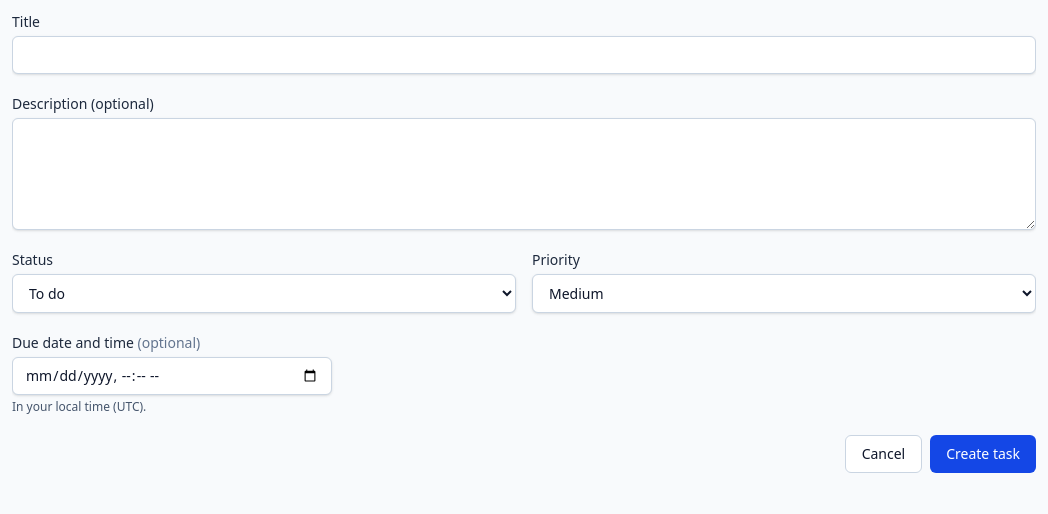
TaskForm: create › shows server field errors next to the inputs
Type "Report" into the field labelled "Title" at (524, 55), box [12, 36, 1036, 74]
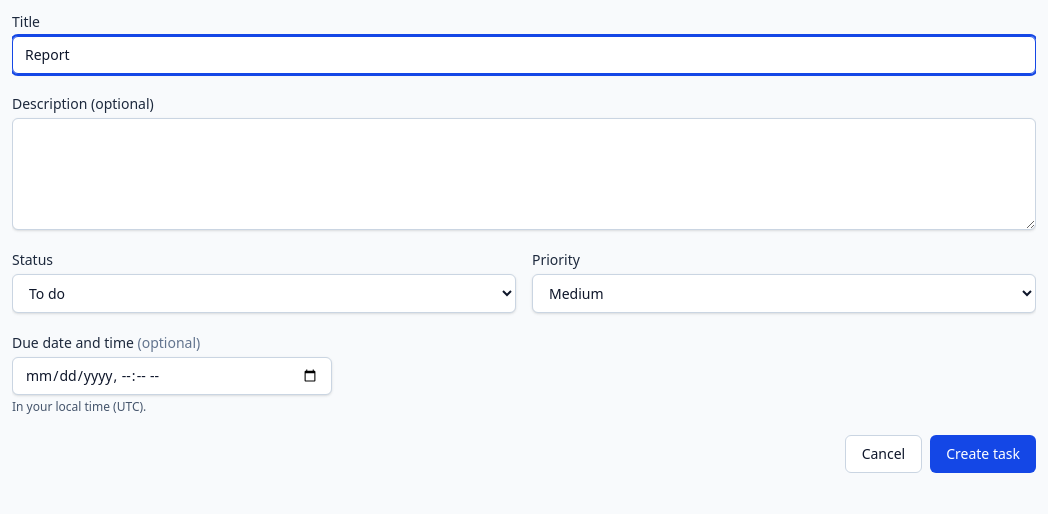
Type "2026-10-11T14:01" into the field labelled "Due date and time (optional)" at (172, 376), box [12, 357, 332, 395]
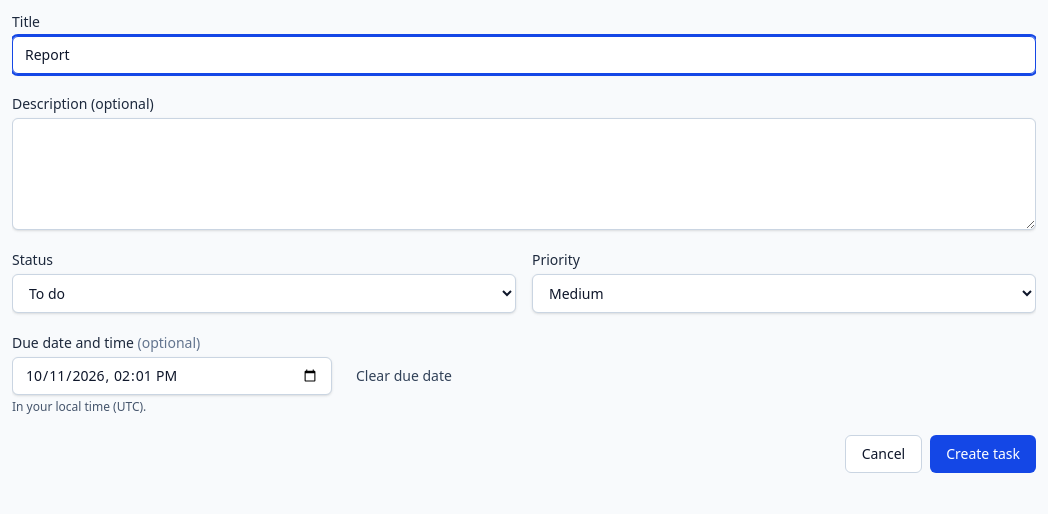
Click the button "Create task" at (983, 454), box [930, 435, 1036, 473]
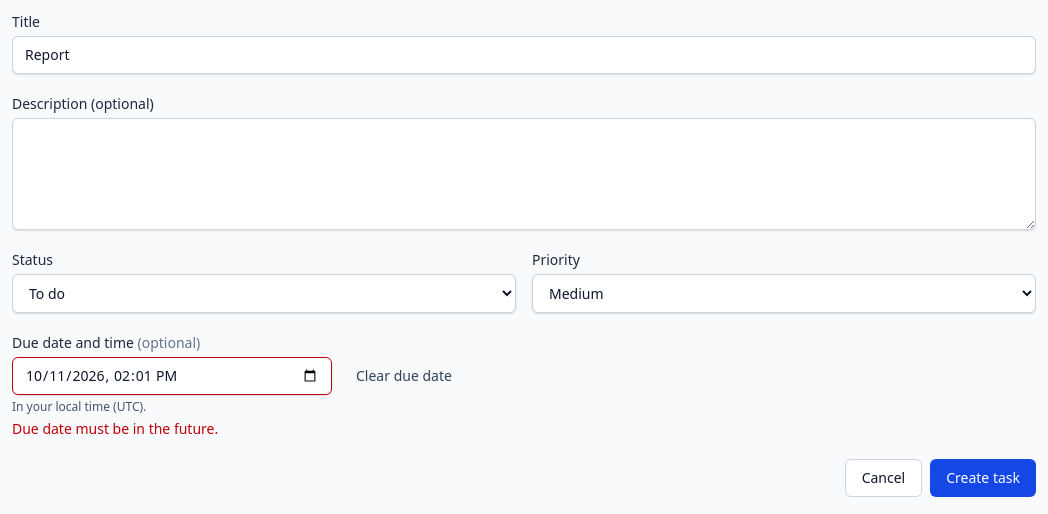
Expected: the button "Create task" is enabled, [930, 459, 1036, 497]
Expected: the text "Due date must be in the future." is shown, [12, 419, 218, 438]
